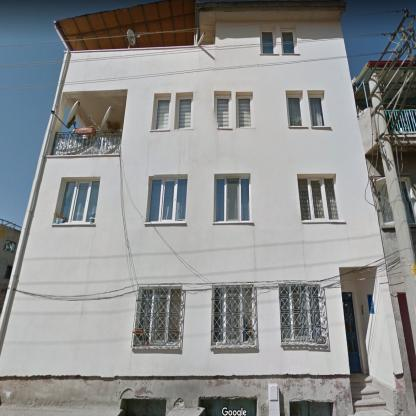door: (342, 292, 361, 372)
window: (138, 287, 181, 345), (280, 284, 323, 342), (212, 285, 254, 344), (52, 176, 101, 224), (298, 173, 342, 222), (146, 174, 187, 222), (214, 173, 251, 222), (307, 90, 330, 128), (376, 177, 393, 224), (398, 178, 415, 225), (286, 91, 306, 127), (214, 92, 233, 129), (151, 94, 171, 129), (175, 92, 193, 130), (236, 91, 254, 128), (260, 29, 277, 54), (281, 29, 298, 54), (4, 240, 16, 251)
